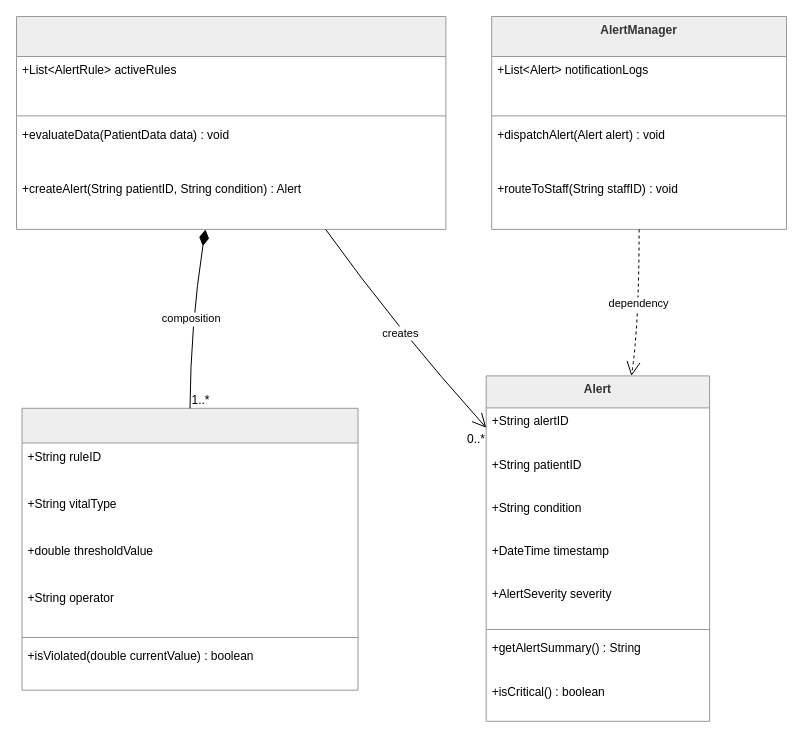
This 803x738 diagram has some shape labels left out. The shapes that lost their labels are listed below. From the top down, each one's box as (x1, y1, x2, y2) in pixels, then its label:
(16, 16, 446, 229): AlertGenerator
(21, 407, 358, 690): AlertRule
